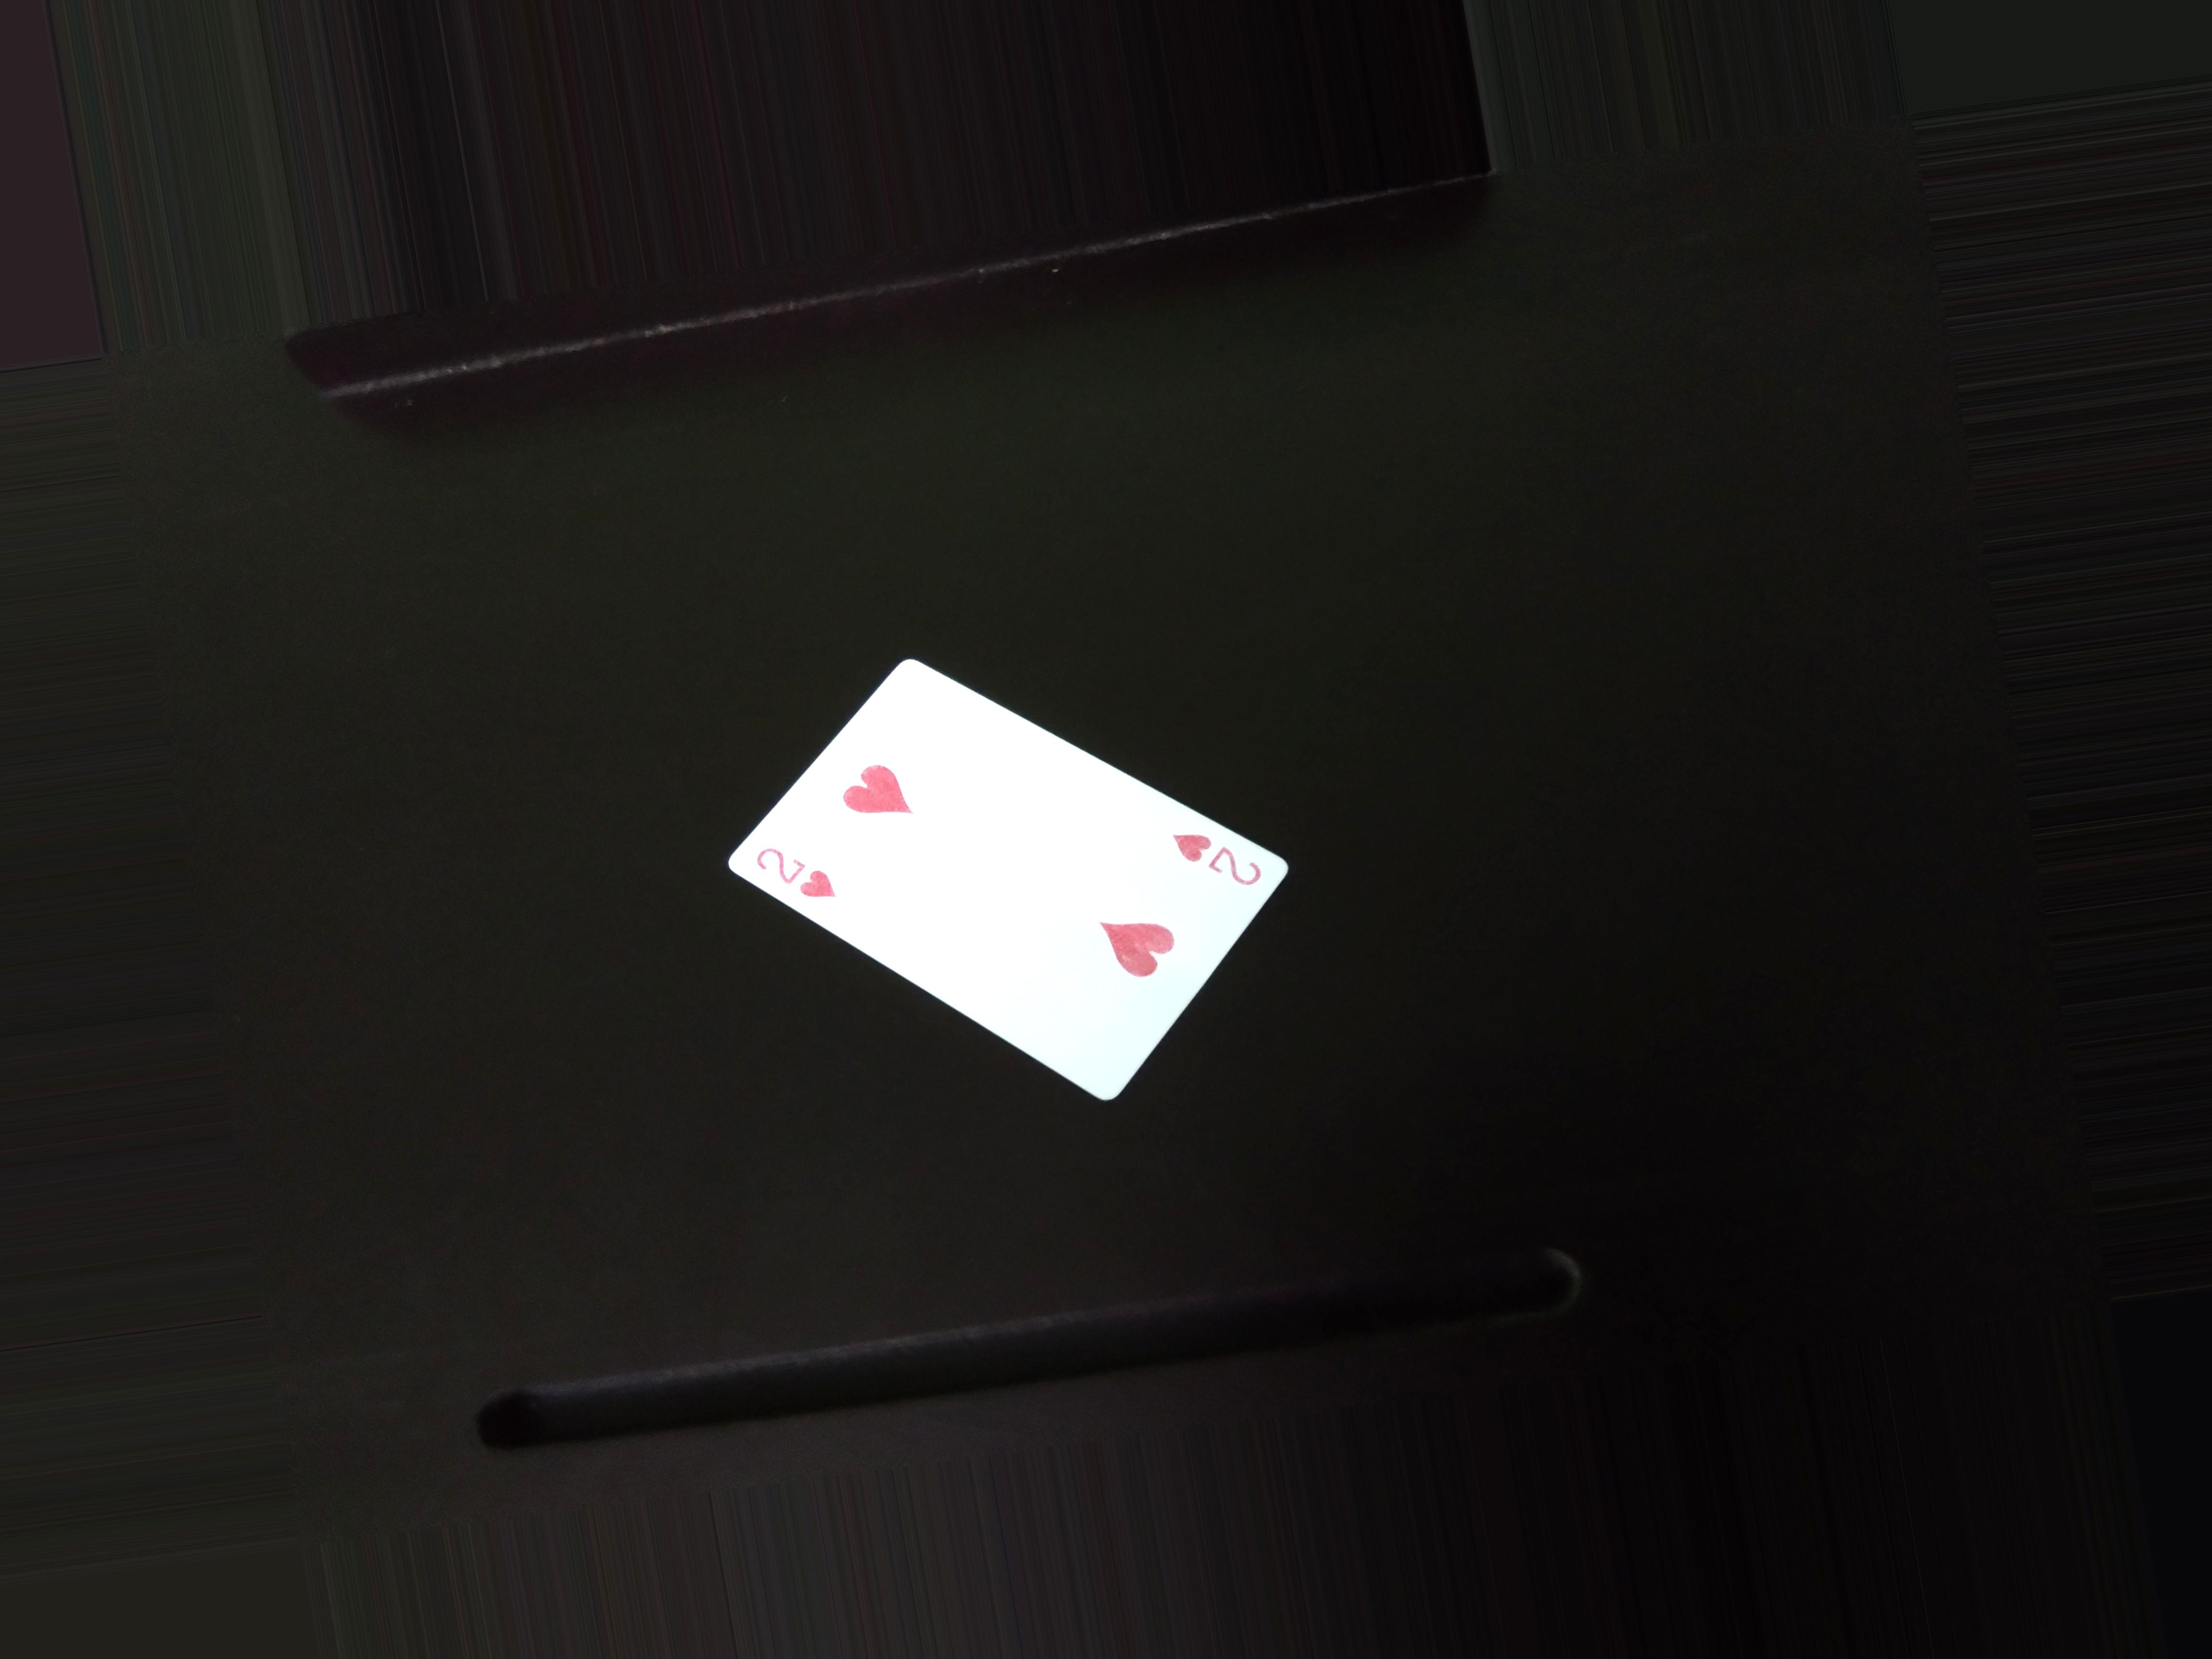2H: (738, 836, 852, 904)
